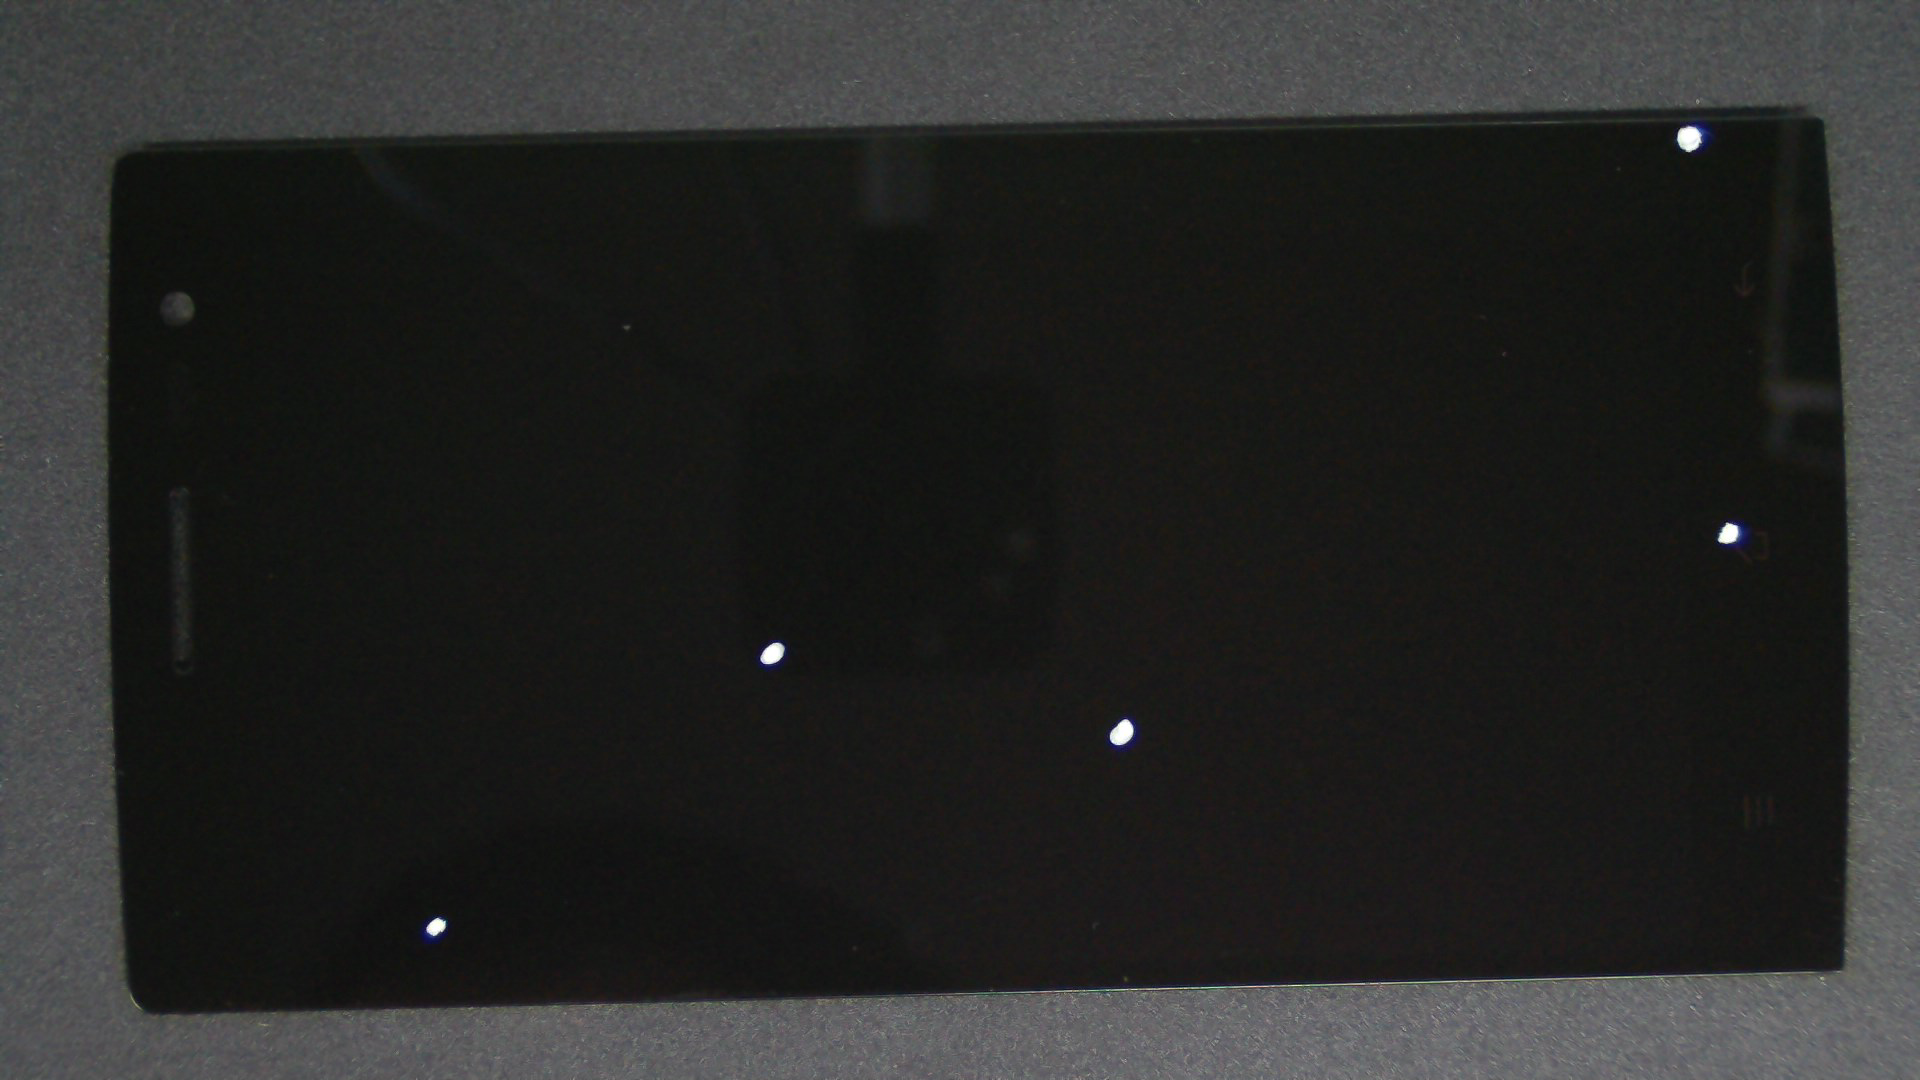defect: (1675, 124, 1704, 153), (1108, 717, 1135, 746), (758, 640, 786, 665), (1716, 521, 1741, 545), (425, 916, 447, 938)
